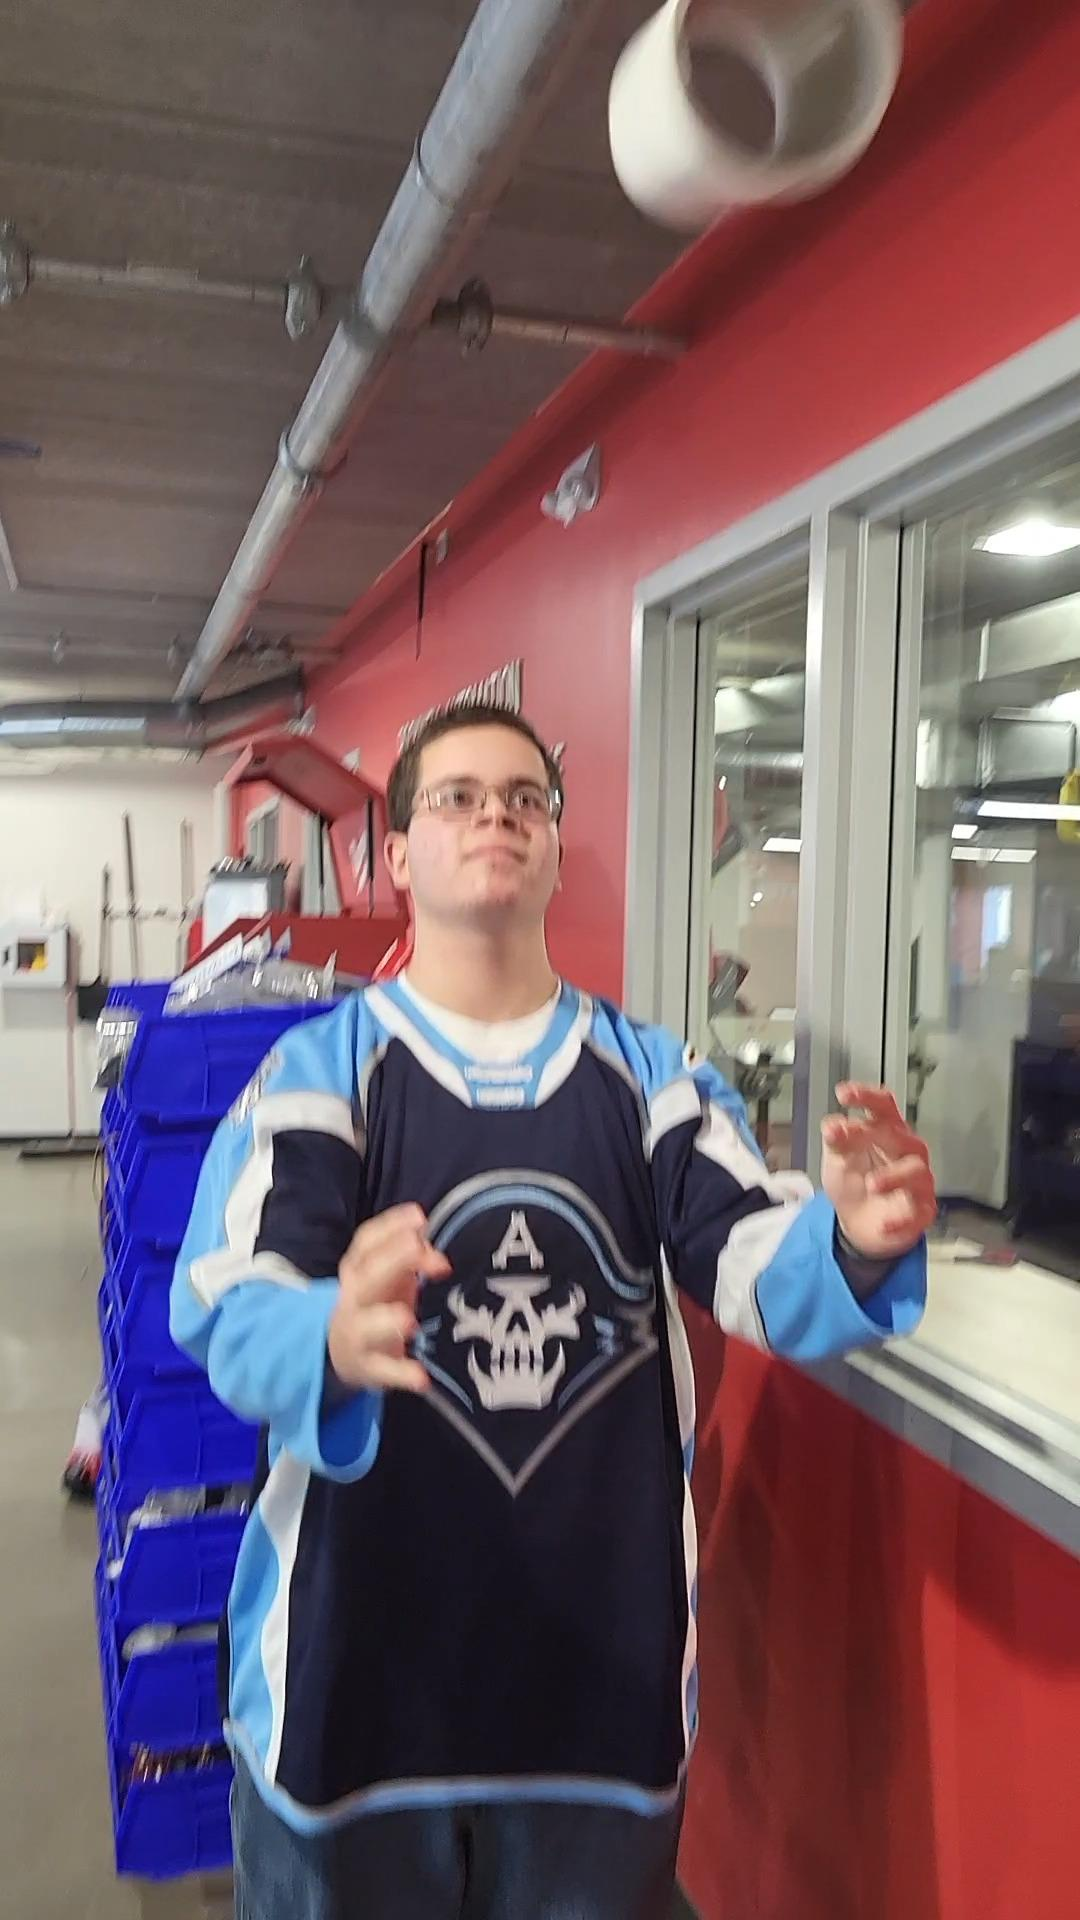coral: (613, 0, 914, 236)
